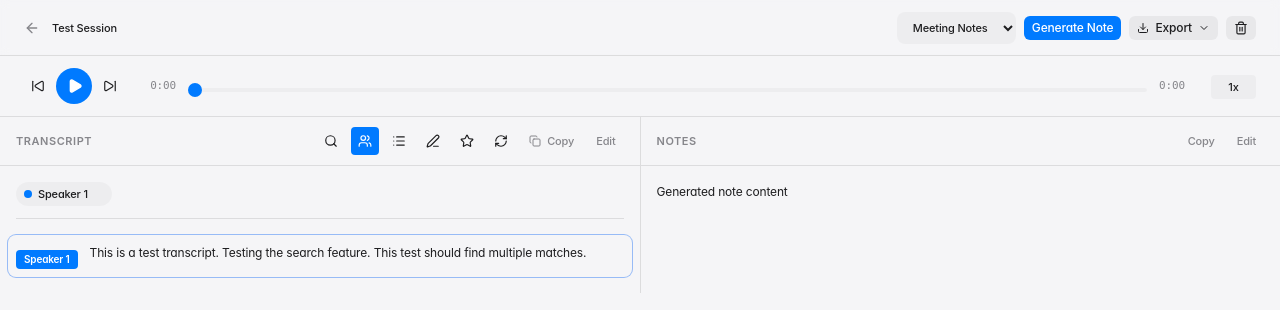
Scenario: SessionDetail › Search Functionality › should open search input when search button is clicked
Click the button named "Search (Cmd+F)": (331, 141) x1=317 y1=127 x2=345 y2=155
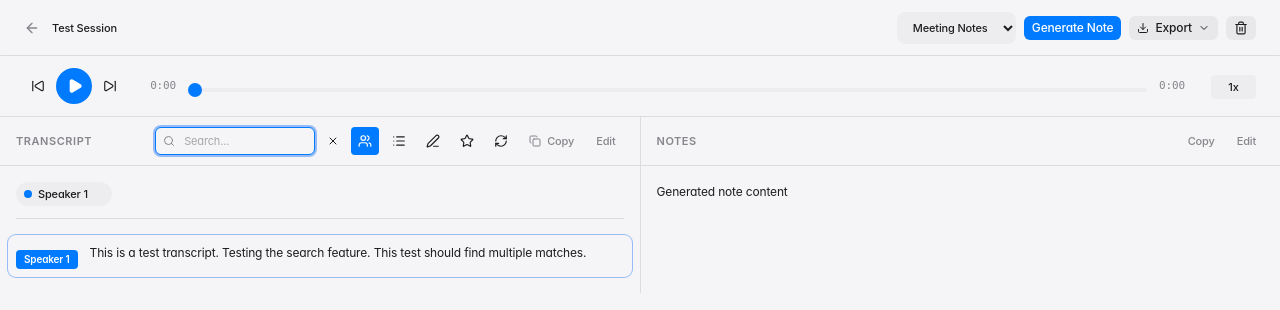
Expected: the field with placeholder "Search..." is shown, x1=155 y1=127 x2=315 y2=155
